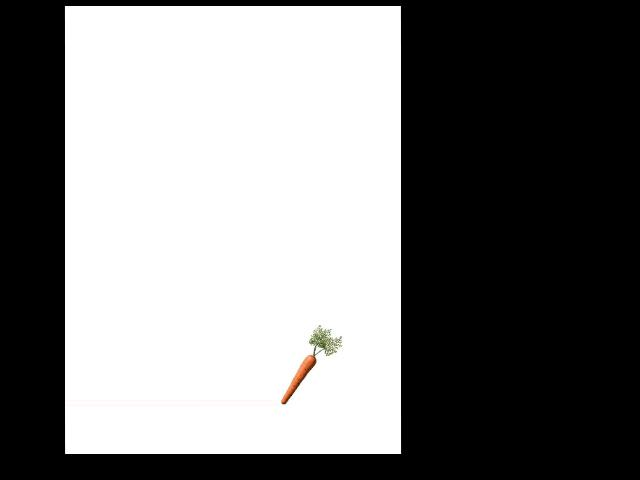carrot: (279, 349, 318, 406)
